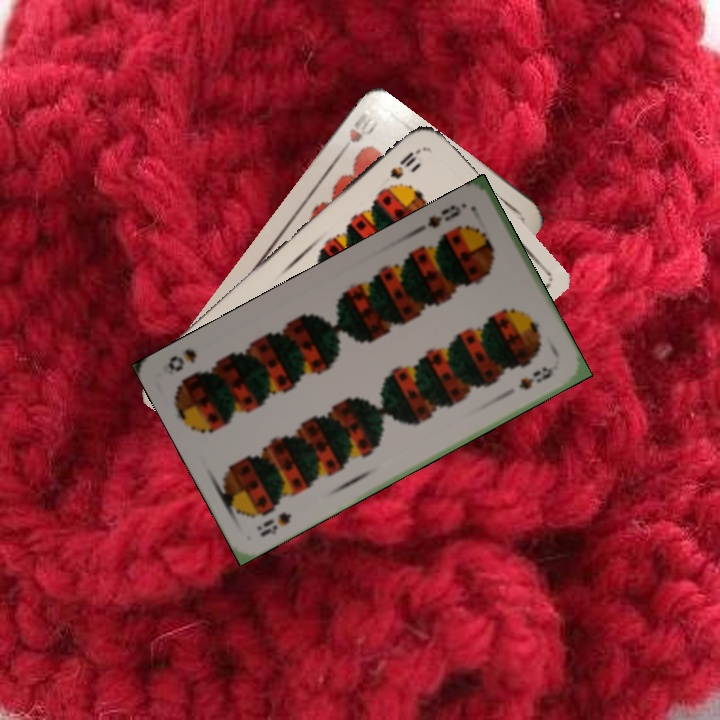H10: (334, 109, 379, 159)
S10: (386, 144, 424, 182)
S8: (252, 508, 295, 540), (423, 200, 464, 231)
